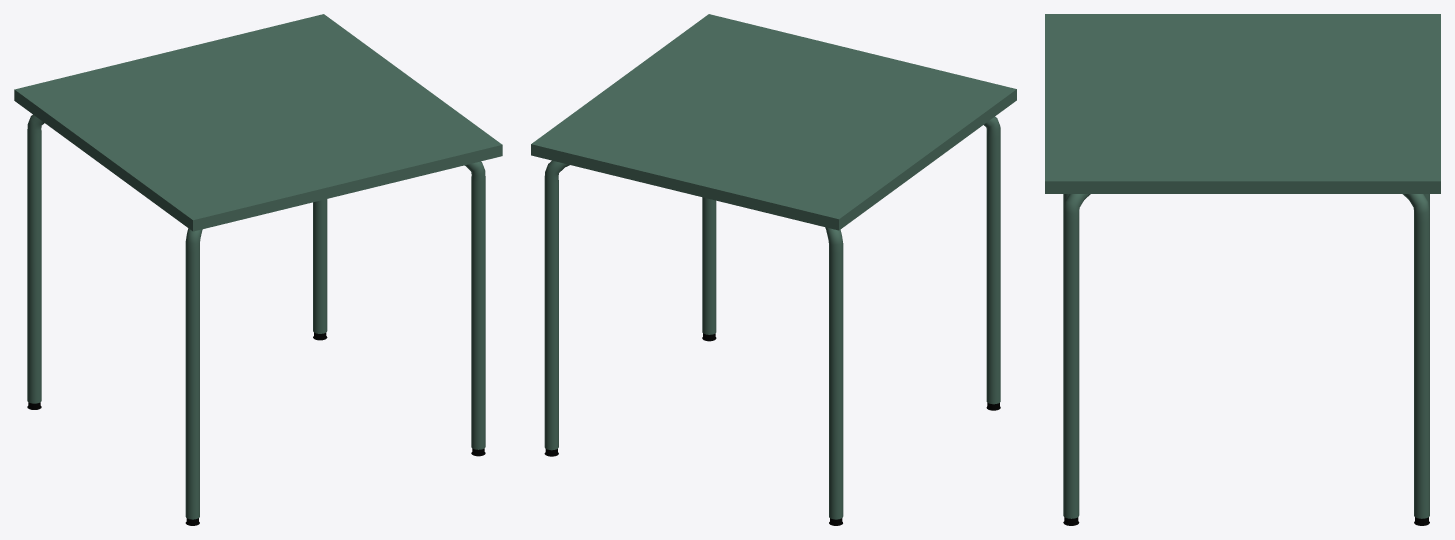
The model's file is Outdoor TABLE.fbx.
3 renders of one model, left to right at view 1: azimuth 30°, elevation 25°; view 2: azimuth 150°, elevation 25°; view 3: azimuth 270°, elevation 25°, orthographic. The views are drawn at different scales.
Parts seen in each view (by area): view 1: Cylinder.014; view 2: Cylinder.014; view 3: Cylinder.014.
Boxes of the visible parts, bbox=[...] form: Cylinder.014: bbox=[14, 14, 502, 525]; Cylinder.014: bbox=[531, 14, 1016, 525]; Cylinder.014: bbox=[1045, 14, 1440, 525].
Size of the model in its own units: 200 by 194 by 200.
